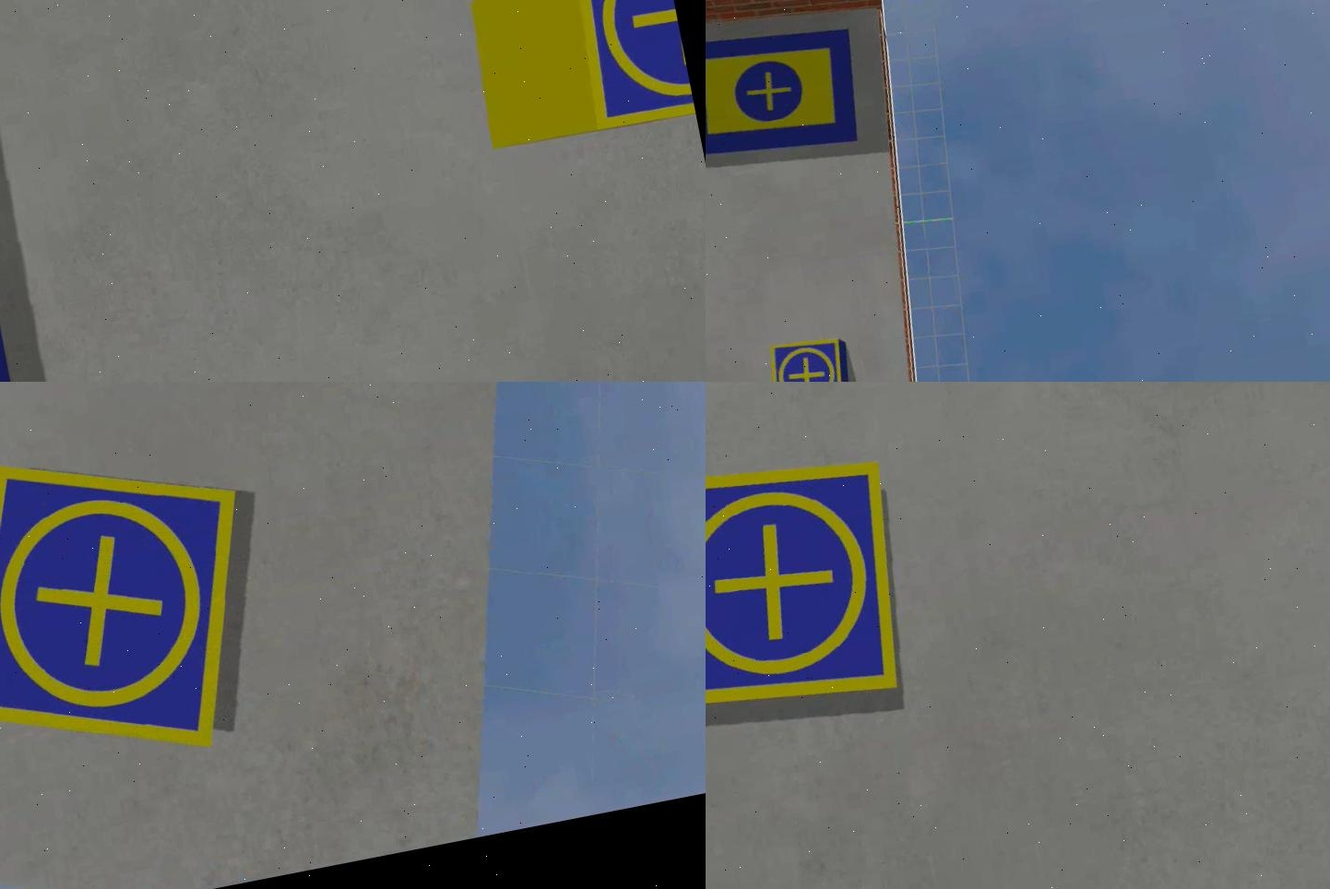large_base: (705, 11, 871, 178)
small_base: (0, 422, 283, 791), (705, 439, 923, 735), (554, 1, 695, 137), (759, 328, 854, 382)
